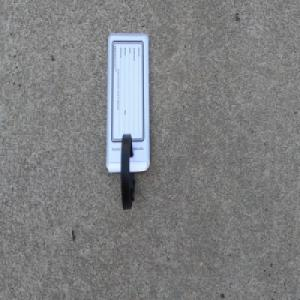LuggageTag: (104, 31, 151, 215)
